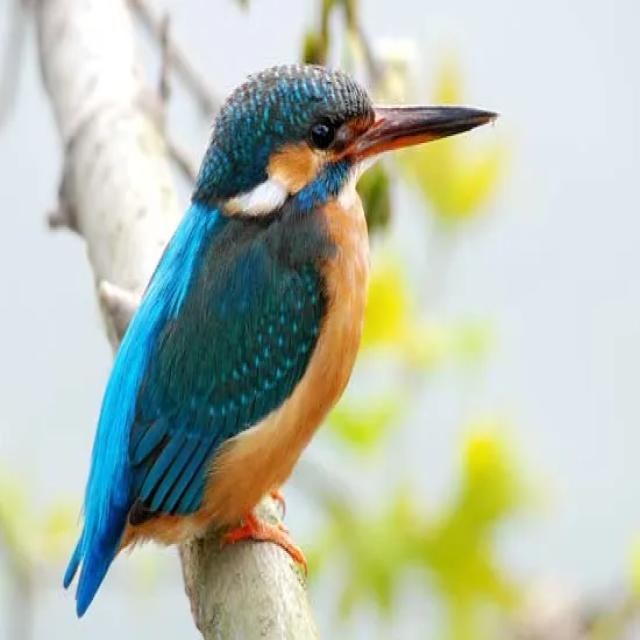kingfisher: (51, 53, 517, 623)
